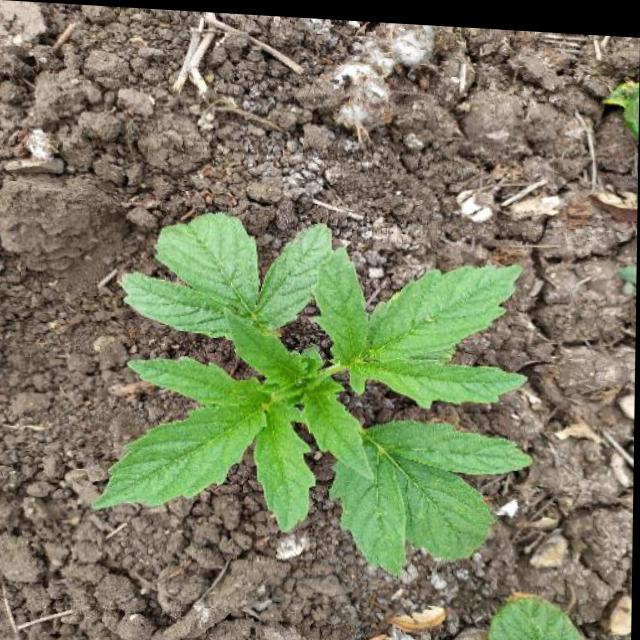crop: (118, 212, 542, 575)
